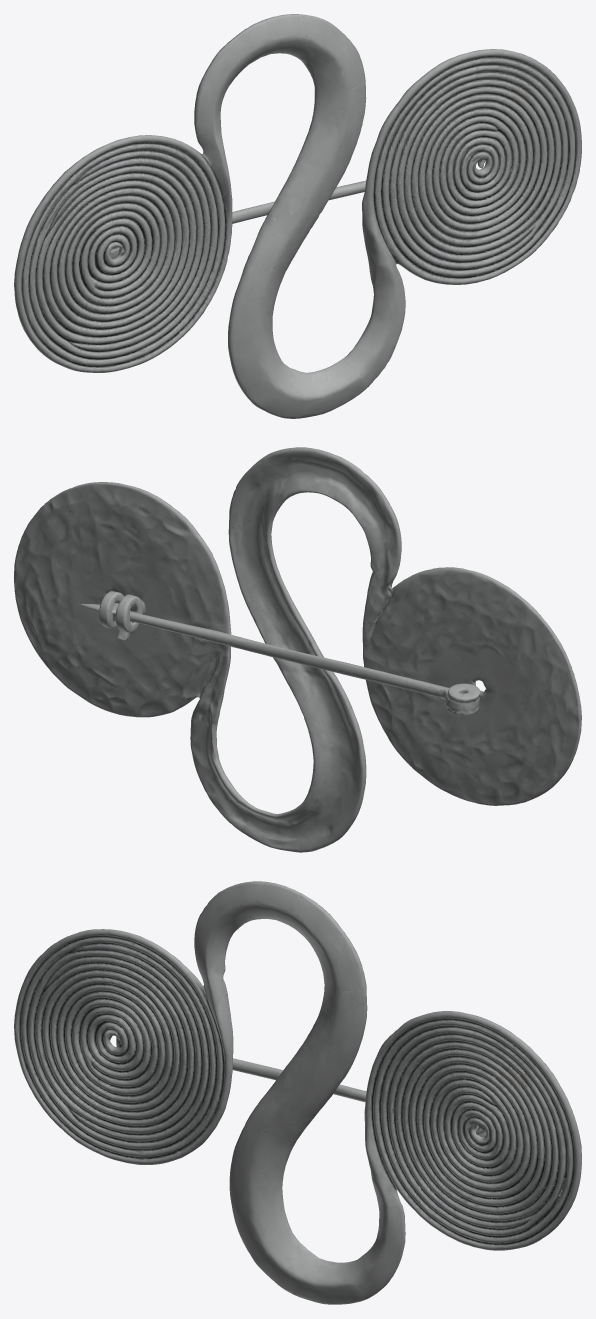
Rendered from hero-spirals.glb.
3 views of the same model, one above another, from view 1: azimuth 30°, elevation 25°; view 2: azimuth 150°, elevation 25°; view 3: azimuth 330°, elevation 25° (orthographic).
Bounding box in the file's own units: 1.9 × 1.31 × 0.1541.
1 material, 1 textured.
